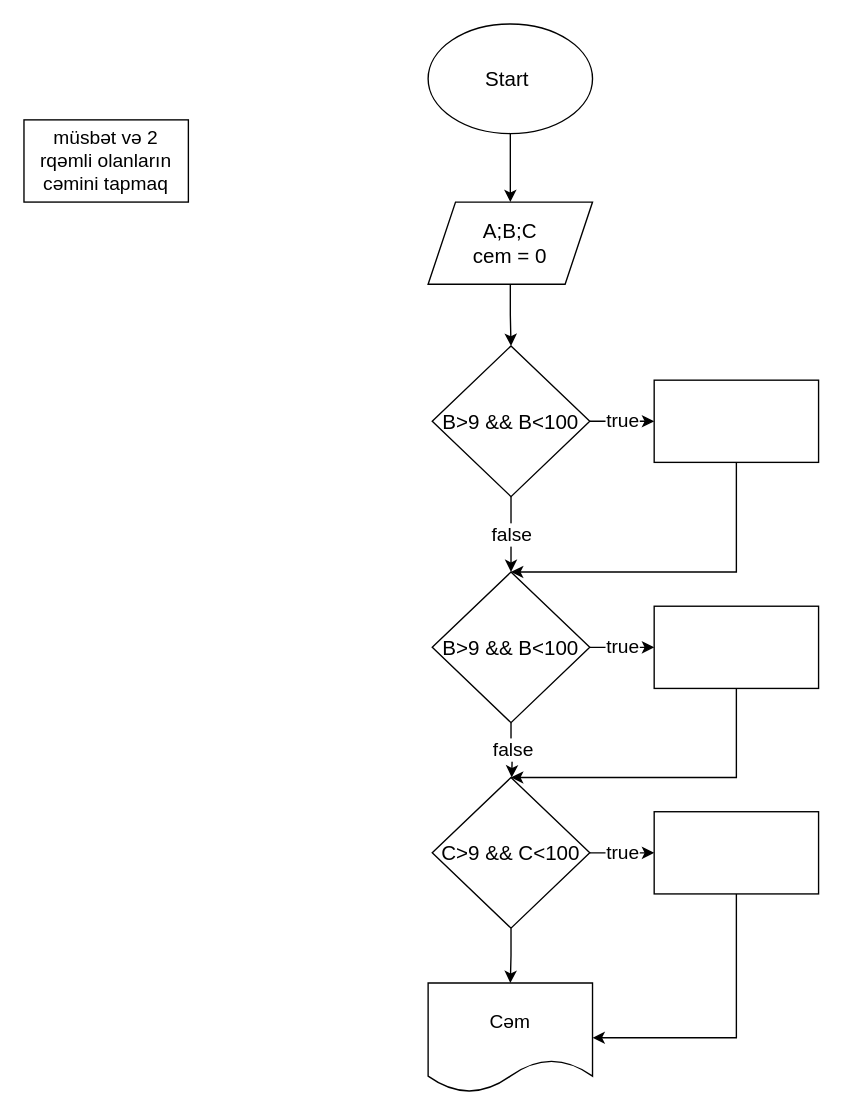
Image size: 843x1117. Some labels were removed from this diagram. Each missing label, with the box of its shape:
cem+=A: (653, 379, 819, 462)
cem+=B: (653, 605, 819, 688)
cem+=C: (653, 810, 819, 894)
